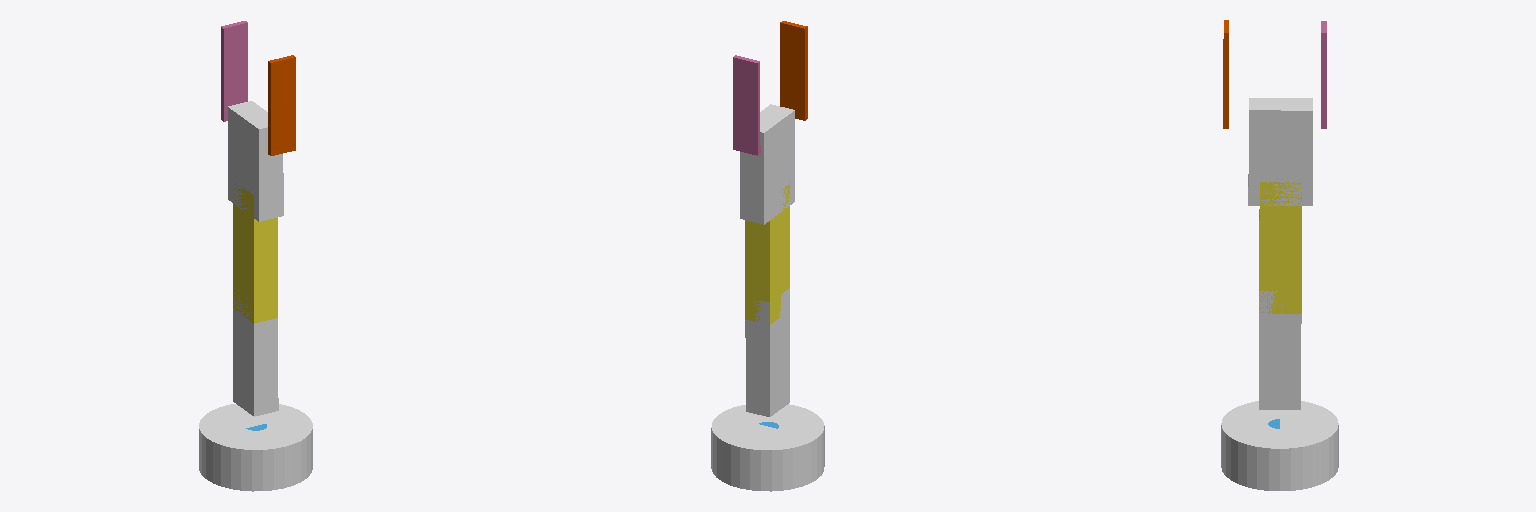
The robot description file, URDF, robot "arm4dof":
<?xml version="1.0" encoding="utf-8"?>
<robot name="arm4dof">
 
 <link name="base_link">
  <visual name="base_visual">
   <origin rpy="0 0 0" xyz="0 0 0.02"/>
   <geometry>
    <cylinder length="0.04" radius="0.05"/>
			</geometry>
   <material name="gray_color">
    <color rgba="0.9 0.9 0.9 1"/>
   </material>
		</visual>
	</link>

 <joint name="joint1" type="revolute">
  <parent link="base_link"/>
  <child link="shoulder"/>
  <origin rpy="3.14 0 0" xyz="0 0 0.040"/>
  <axis xyz="0 0 1"/>
  <limit lower="-3.14" upper="3.14" effort="0" velocity="0"/>
 </joint>
 
 <link name="shoulder">
  <visual name="shoulder_visual">
   <origin rpy="0 0 0" xyz="0 0 0.003"/>
			<geometry>
    <cylinder length="0.006" radius="0.01"/>
			</geometry>
		</visual>
	</link>


 <joint name="joint2" type="revolute">
  <parent link="shoulder"/>
  <child link="upperarm"/>
  <origin rpy="3.14 0 0" xyz="0 0 -0.029"/>
  <axis xyz="0 1 0"/>
  <limit lower="-1.5708" upper="1.5708" effort="0" velocity="0"/>
 </joint>
 
	<link name="upperarm">
		<visual name="upperarm_visual">
   <origin rpy="0 0 0" xyz="0 0 0.045785"/>
			<geometry>
    <box size="0.02473 0.036 0.11180"/>
			</geometry>
   <material name="gray_color">
    <color rgba="0.9 0.9 0.9 1"/>
   </material>
		</visual>
	</link>

 <joint name="joint3" type="revolute">
  <parent link="upperarm"/>
  <child link="forearm"/>
  <origin rpy="0 0 0" xyz="0 0 0.09157"/>
  <axis xyz="0 1 0"/>
  <limit lower="-1.5708" upper="1.5708" effort="0" velocity="0"/>
 </joint>
  
	<link name="forearm">
		<visual name="forearm_visual">
   <origin rpy="0 0 0" xyz="0 0 0.05"/>
			<geometry>
    <box size="0.02473 0.036 0.124"/>
			</geometry>
		</visual>
	</link>

 <link name="hand">
  <visual name="hand_visual">
   <origin rpy="0 0 0" xyz="0 0 0.0345175"/>
			<geometry>
    <box size="0.02473 0.0549 0.089265"/>
			</geometry>
   <material name="gray_color">
    <color rgba="0.9 0.9 0.9 1"/>
   </material>
  </visual>
 </link>
 
 <joint name="joint4" type="revolute">
  <parent link="forearm"/>
  <child link="hand"/>
  <origin rpy="0 0 0" xyz="0 0 0.10"/>
  <axis xyz="0 1 0"/>
  <limit lower="-1.5708" upper="1.5708" effort="0" velocity="0"/>
 </joint>
 
 <link name="finger">
  <visual name="finger_visual">
   <origin rpy="0 0 0" xyz="0 0.026 0.04"/>
			<geometry>
    <box size="0.025 0.005 0.09"/>
			</geometry>
		</visual>
	</link>

	<joint name="finger_joint" type="revolute">
		<parent link="hand"/>
		<child link="finger"/>
  <origin rpy="0 0 3.14" xyz="0 -0.020615 0.066785"/>
  <limit lower="-0.785" upper="0.785" effort="0" velocity="0"/>
	</joint>
 
 <link name="fixfinger">
  <visual name="fixfinger_visual">
   <origin rpy="0 0 0" xyz="0 0 0.04"/>
   <geometry>
    <box size="0.025 0.005 0.09"/>
   </geometry>
  </visual>
 </link>
 
 <joint name="fixfinger_joint" type="fixed">
  <parent link="hand"/>
  <child link="fixfinger"/>
  <origin rpy="0 0 0" xyz="0 0.036492 0.066785"/>
	</joint>

</robot>

--- Facts derived from the render (not from the file) ---
3 views of the same robot in one strip: view 1: azimuth 30°, elevation 25°; view 2: azimuth 150°, elevation 25°; view 3: azimuth 270°, elevation 25° (orthographic).
Model arm4dof with 7 links and 6 joints (5 revolute, 1 fixed), rooted at base_link, posed all joints at 0.
Visible links, largest first — view 1: base_link, hand, forearm, upperarm, finger, fixfinger; view 2: base_link, hand, upperarm, forearm, fixfinger, finger; view 3: base_link, hand, forearm, upperarm, fixfinger, finger.
Link boxes in pixels (<box>): base_link: <box>199,404,312,491</box>; hand: <box>228,101,283,221</box>; forearm: <box>233,183,277,323</box>; upperarm: <box>233,288,278,416</box>; finger: <box>268,55,295,155</box>; fixfinger: <box>221,21,247,121</box>; base_link: <box>711,404,824,491</box>; hand: <box>740,104,794,224</box>; upperarm: <box>745,288,789,416</box>; forearm: <box>745,183,789,324</box>; fixfinger: <box>733,55,760,155</box>; finger: <box>780,21,807,120</box>; base_link: <box>1221,401,1338,490</box>; hand: <box>1248,98,1312,205</box>; forearm: <box>1259,182,1301,313</box>; upperarm: <box>1259,291,1301,409</box>; fixfinger: <box>1321,21,1326,128</box>; finger: <box>1223,20,1228,128</box>.
Bounding box of the posed robot: 0.1 × 0.1 × 0.4125 m (x, y, z).
Geometry: primitives only (box / cylinder / sphere), no mesh files.